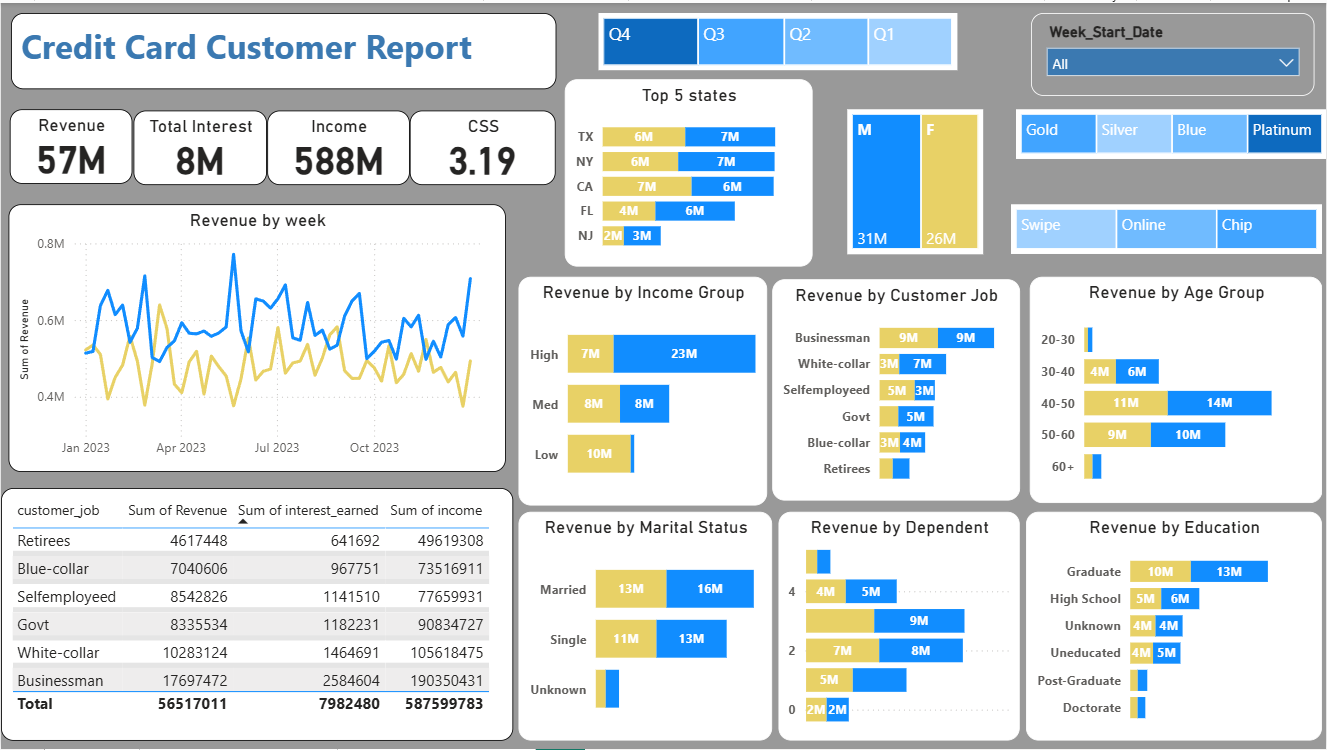

The dashboard page shown, as its layout file describes it:
{"tool":"powerbi","page":{"name":"Credit Card Customer","canvas":[1280,720],"ordinal":2},"visuals":[{"type":"barChart","title":"Revenue by Income Group","fields":{"Y":["Sum(public cc_detail.Revenue)"],"Category":["public cust_detail.IncomeGroup"],"Series":["public cust_detail.gender"]},"box":[499.5,264.2,240.1,220.8],"z":0},{"type":"tableEx","fields":{"Values":["public cust_detail.customer_job","Sum(public cc_detail.Revenue)","Sum(public cc_detail.interest_earned)","Sum(public cust_detail.income)"]},"box":[0,468.1,494.6,243.7],"z":1000},{"type":"card","title":"Revenue","fields":{"Values":["Sum(public cc_detail.Revenue)"]},"box":[8.4,102.8,118.2,72.4],"z":2000},{"type":"card","title":"Income","fields":{"Values":["Sum(public cust_detail.income)"]},"box":[257,104,137.5,72.4],"z":3000},{"type":"card","title":"Total Interest","fields":{"Values":["Sum(public cc_detail.interest_earned)"]},"box":[127.9,104,129.1,72.4],"z":4000},{"type":"card","title":"CSS","fields":{"Values":["Avg(public cust_detail.cust_satisfaction_score)"]},"box":[394.5,104,141.2,72.4],"z":5000},{"type":"slicer","fields":{"Values":["public cc_detail.week_start_date"]},"box":[992.9,0,273.9,79.6],"z":6000},{"type":"treemap","fields":{"Group":["public cc_detail.qtr"],"Values":["Avg(public cc_detail.client_num)"]},"box":[617.5,1.2,346.6,54.9],"z":7000},{"type":"treemap","fields":{"Group":["public cc_detail.card_category"],"Values":["Avg(public cc_detail.client_num)"]},"box":[979.9,103.1,300.4,47.7],"z":8000},{"type":"textbox","box":[9.7,0,526,73.6],"z":9000},{"type":"lineChart","title":"Revenue by week ","fields":{"Y":["Sum(public cc_detail.Revenue)"],"Series":["public cust_detail.gender"],"Category":["public cc_detail.week_start_date.Variation.Date Hierarchy.Year","public cc_detail.week_start_date.Variation.Date Hierarchy.Month","public cc_detail.week_start_date.Variation.Date Hierarchy.Day"]},"box":[7.2,194.2,480.2,258.2],"z":10000},{"type":"treemap","fields":{"Group":["public cust_detail.gender"],"Values":["Sum(public cc_detail.Revenue)"]},"box":[816.8,102.5,131.5,139.9],"z":11000},{"type":"barChart","title":"Revenue by Age Group","fields":{"Y":["Sum(public cc_detail.Revenue)"],"Category":["public cust_detail.AgeGroup"],"Series":["public cust_detail.gender"]},"box":[992.9,264.2,282.3,218.4],"z":12000},{"type":"barChart","title":"Revenue by Education","fields":{"Y":["Sum(public cc_detail.Revenue)"],"Category":["public cust_detail.education_level"],"Series":["public cust_detail.gender"]},"box":[989.3,491,285.9,220.8],"z":13000},{"type":"barChart","title":"Top 5 states","fields":{"Y":["Sum(public cc_detail.Revenue)"],"Category":["public cust_detail.state_cd"],"Series":["public cust_detail.gender"]},"box":[552.5,73.6,238.9,181],"z":14000},{"type":"barChart","title":"Revenue by Dependent","fields":{"Y":["Sum(public cc_detail.Revenue)"],"Category":["public cust_detail.dependent_count"],"Series":["public cust_detail.gender"]},"box":[750.4,491,232.8,220.8],"z":15000},{"type":"barChart","title":"Revenue by Marital Status","fields":{"Y":["Sum(public cc_detail.Revenue)"],"Category":["public cust_detail.marital_status"],"Series":["public cust_detail.gender"]},"box":[499.5,491,244.9,220.8],"z":16000},{"type":"treemap","fields":{"Group":["public cc_detail.use_chip"],"Values":["Avg(public cc_detail.client_num)"]},"box":[974.8,194.2,300.4,48.3],"z":17000},{"type":"barChart","title":"Revenue by Customer Job","fields":{"Y":["Sum(public cc_detail.Revenue)"],"Category":["public cust_detail.customer_job"],"Series":["public cust_detail.gender"]},"box":[744.4,266.6,238.9,213.5],"z":18000}]}

Visuals, with their boxes in screenshot pixels (x1, y1, x2, y2), scaled from the page's 1280x720 canvas onto the 1327x750 screenshot:
"Revenue by Income Group" barChart: bbox(518, 275, 767, 505)
tableEx - public cust_detail.customer_job x Sum(public cc_detail.Revenue): bbox(0, 488, 513, 741)
"Revenue" card: bbox(9, 107, 131, 182)
"Income" card: bbox(266, 108, 409, 184)
"Total Interest" card: bbox(133, 108, 266, 184)
"CSS" card: bbox(409, 108, 555, 184)
slicer - public cc_detail.week_start_date: bbox(1029, 0, 1313, 83)
treemap - public cc_detail.qtr x Avg(public cc_detail.client_num): bbox(640, 1, 1000, 58)
treemap - public cc_detail.card_category x Avg(public cc_detail.client_num): bbox(1016, 107, 1326, 157)
textbox: bbox(10, 0, 555, 77)
"Revenue by week " lineChart: bbox(7, 202, 505, 471)
treemap - public cust_detail.gender x Sum(public cc_detail.Revenue): bbox(847, 107, 983, 253)
"Revenue by Age Group" barChart: bbox(1029, 275, 1322, 503)
"Revenue by Education" barChart: bbox(1026, 511, 1322, 741)
"Top 5 states" barChart: bbox(573, 77, 820, 265)
"Revenue by Dependent" barChart: bbox(778, 511, 1019, 741)
"Revenue by Marital Status" barChart: bbox(518, 511, 772, 741)
treemap - public cc_detail.use_chip x Avg(public cc_detail.client_num): bbox(1011, 202, 1322, 253)
"Revenue by Customer Job" barChart: bbox(772, 278, 1019, 500)
